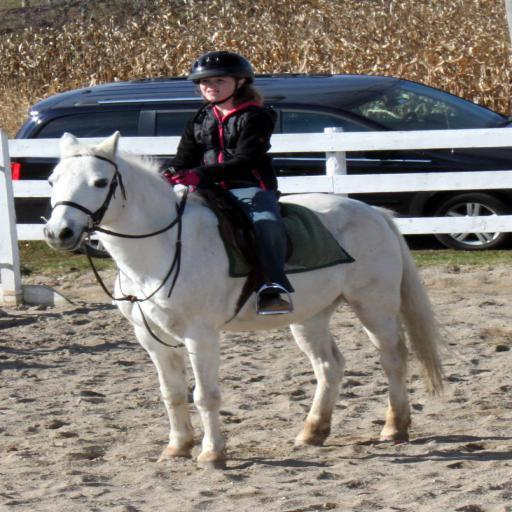horse: (38, 133, 450, 469)
